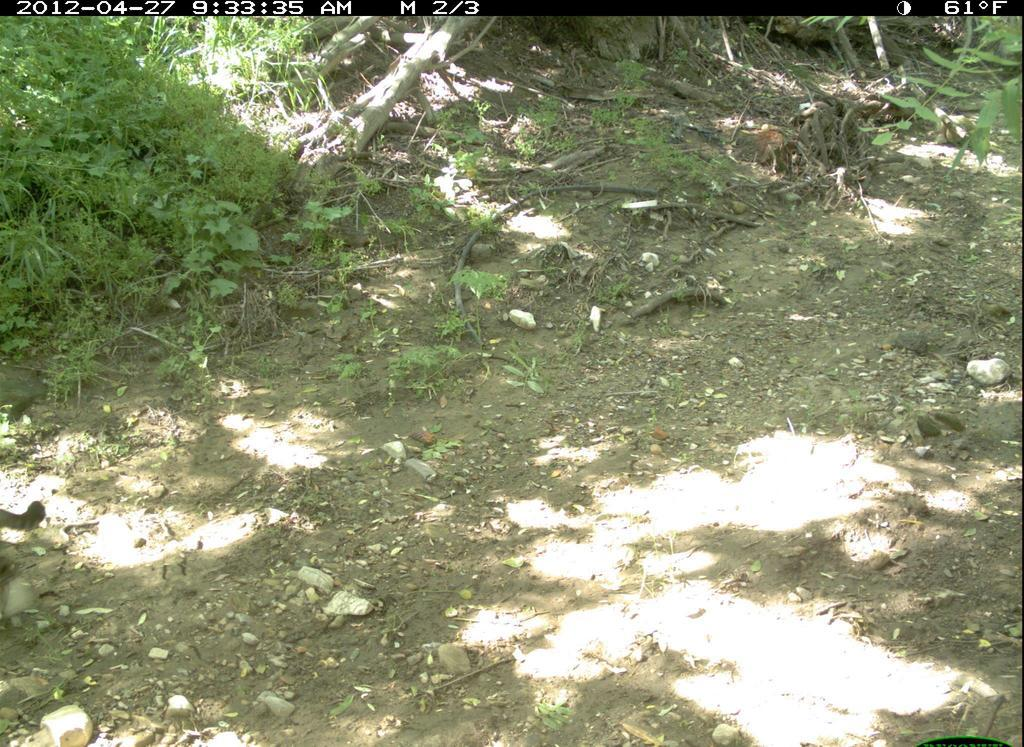cat: (1, 475, 77, 612)
